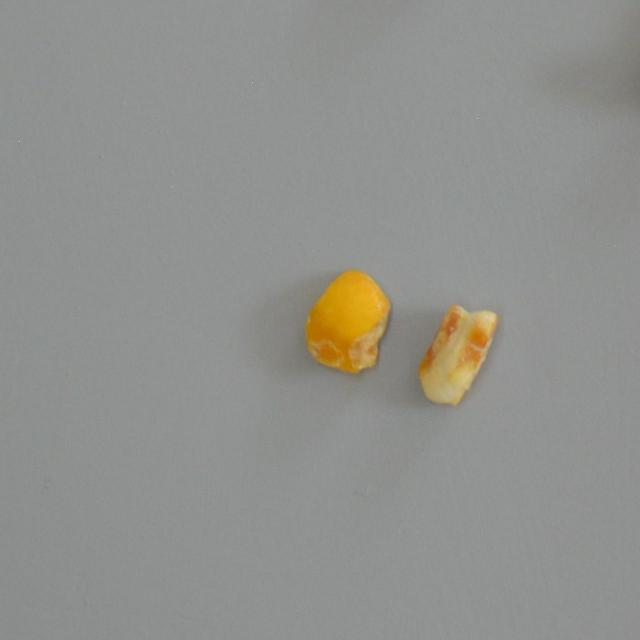dañado: (418, 300, 500, 407)
pelicula: (298, 265, 392, 376)
